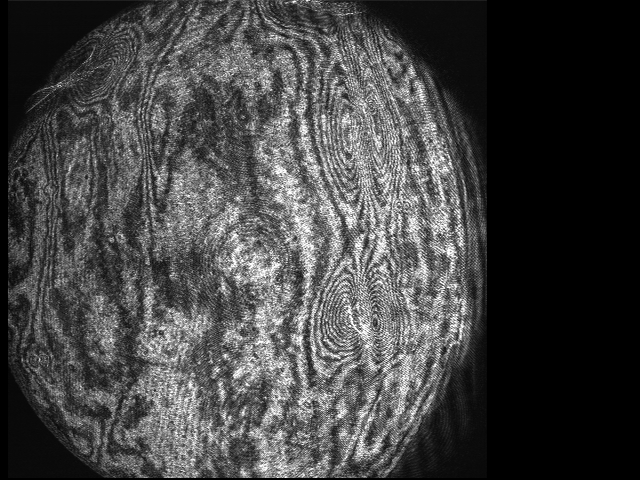plume: (319, 260, 405, 359)
